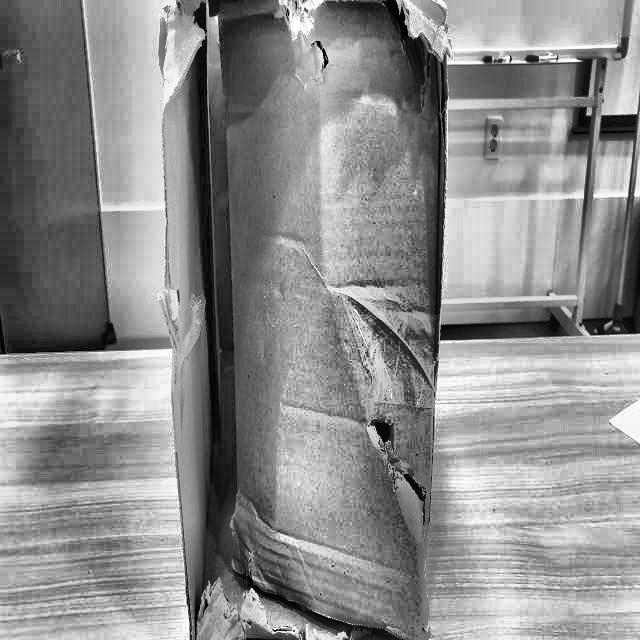box: (146, 0, 470, 639)
hole: (399, 469, 427, 509), (368, 406, 395, 446)
